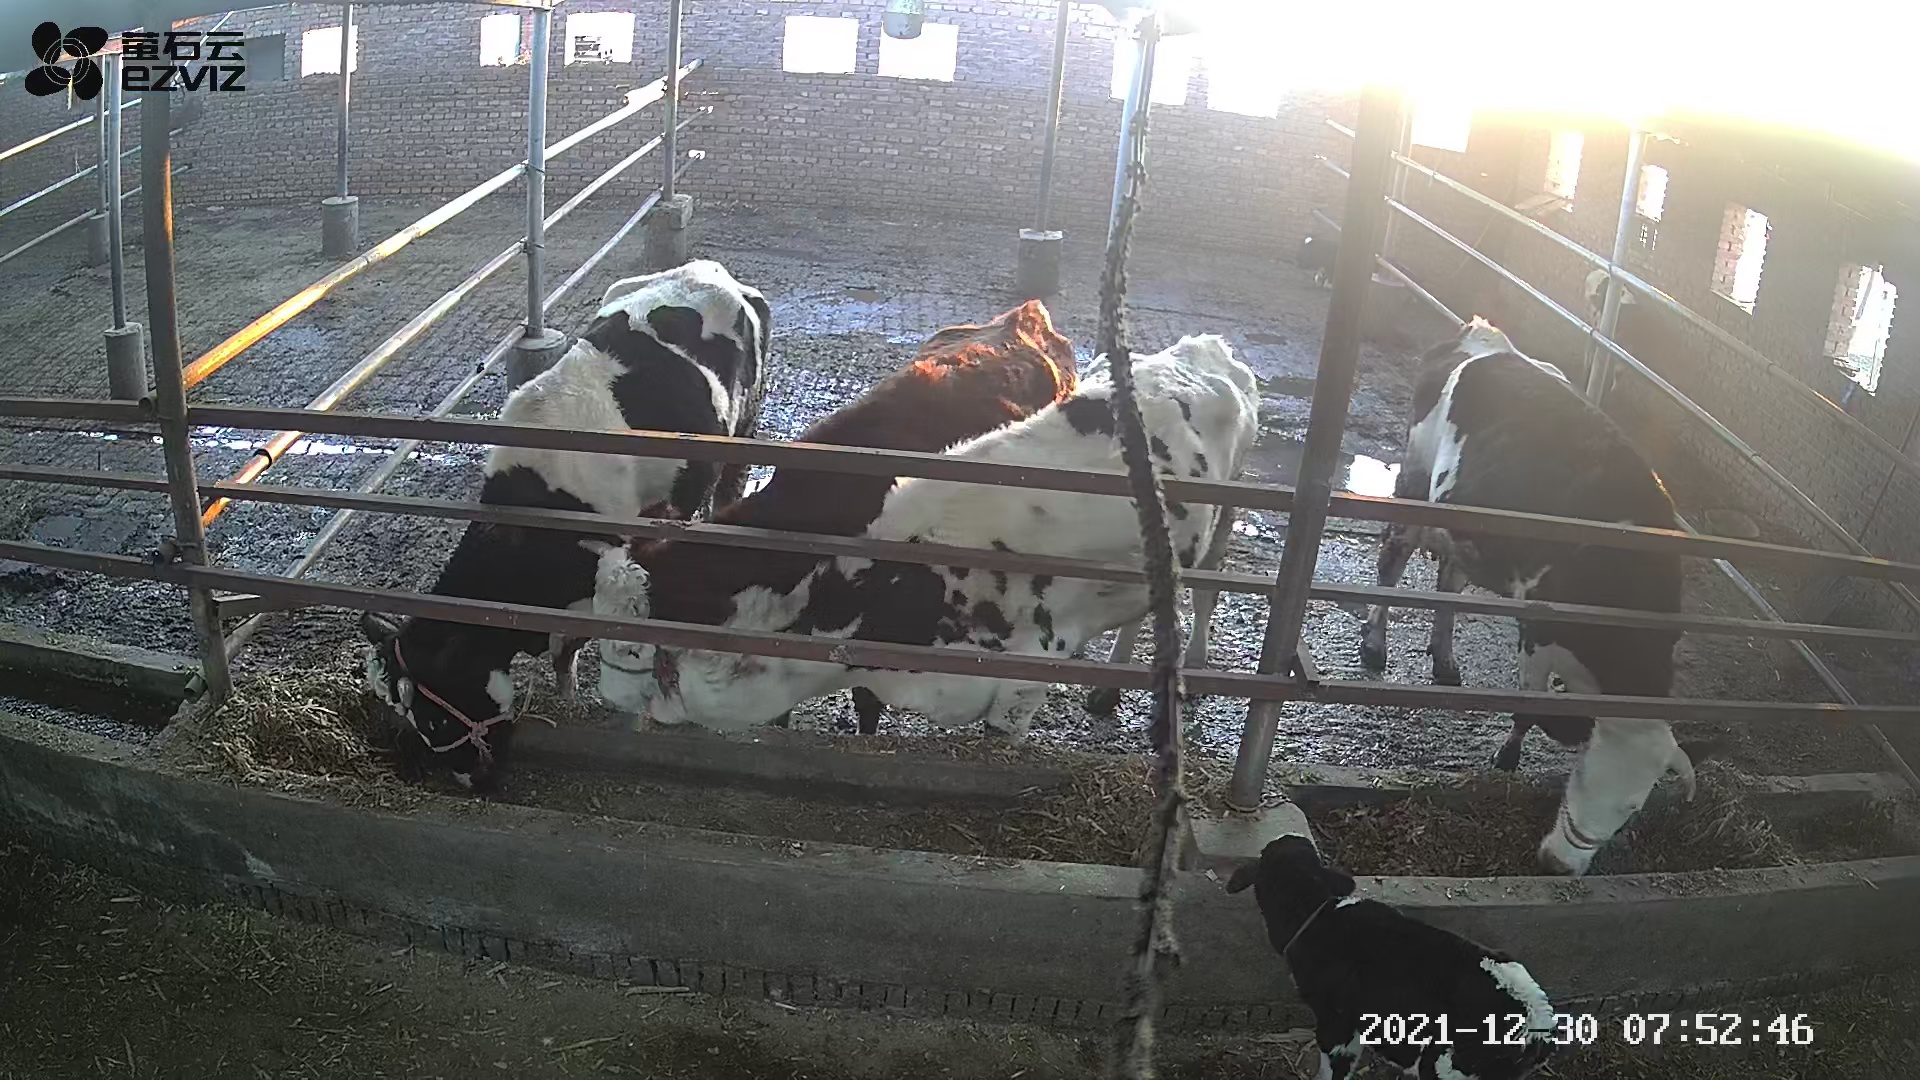cow: (646, 330, 1258, 746), (352, 258, 774, 798), (576, 297, 1072, 735), (1358, 311, 1721, 876)
